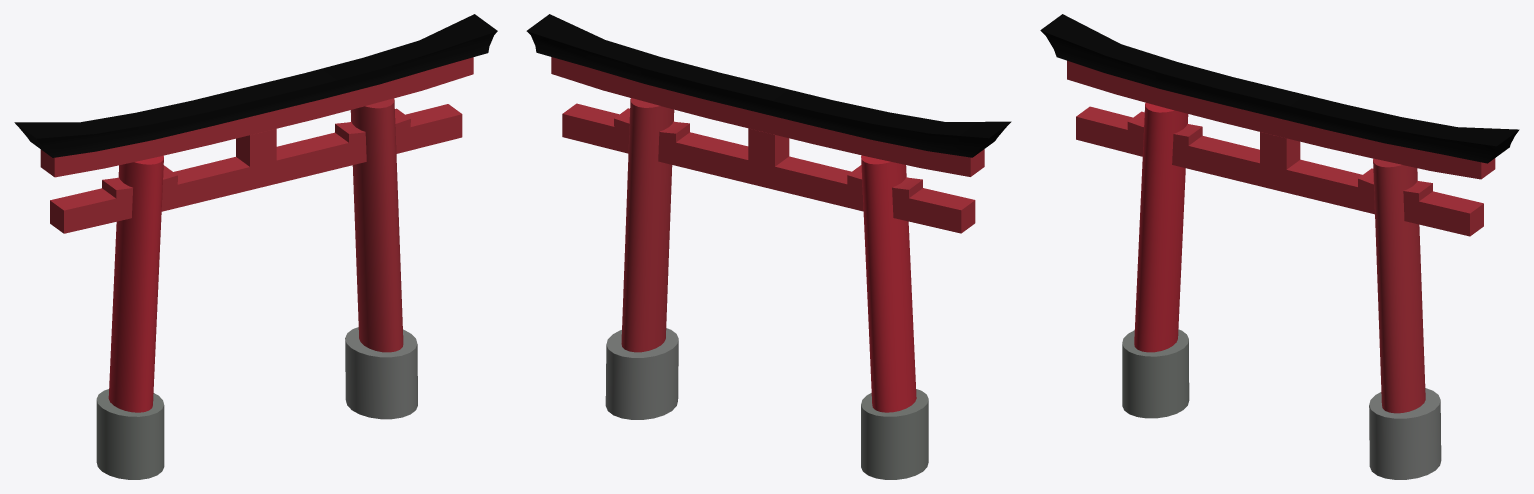
File: ToriiGate.fbx
3 views of the same model, side by side, from view 1: azimuth 30°, elevation 25°; view 2: azimuth 150°, elevation 25°; view 3: azimuth 330°, elevation 25° (orthographic).
Parts seen in each view (by area): view 1: TopRoof, MidSection, PillarL, PillarR, TopBase, basePillarR, basePillarL, SideBarL, SideBarR, SignBoard; view 2: TopRoof, MidSection, PillarL, PillarR, TopBase, basePillarR, basePillarL, SignBoard, SideBarR, SideBarL; view 3: TopRoof, MidSection, PillarR, PillarL, TopBase, basePillarR, basePillarL, SideBarR, SignBoard, SideBarL.
Boxes of the visible parts, bbox=[...] form: TopRoof: bbox=[14, 14, 497, 157]; MidSection: bbox=[50, 104, 462, 233]; PillarL: bbox=[108, 155, 163, 412]; PillarR: bbox=[350, 98, 403, 352]; TopBase: bbox=[40, 57, 473, 177]; basePillarR: bbox=[345, 327, 417, 419]; basePillarL: bbox=[96, 389, 164, 479]; SideBarL: bbox=[102, 165, 177, 221]; SideBarR: bbox=[335, 108, 410, 165]; SignBoard: bbox=[236, 129, 276, 166]; TopRoof: bbox=[526, 14, 1011, 157]; MidSection: bbox=[562, 103, 975, 233]; PillarL: bbox=[861, 155, 916, 412]; PillarR: bbox=[621, 98, 674, 352]; TopBase: bbox=[551, 57, 984, 176]; basePillarR: bbox=[605, 328, 678, 419]; basePillarL: bbox=[861, 389, 928, 479]; SignBoard: bbox=[748, 128, 789, 166]; SideBarR: bbox=[614, 108, 689, 164]; SideBarL: bbox=[847, 165, 922, 220]; TopRoof: bbox=[1040, 14, 1519, 163]; MidSection: bbox=[1076, 106, 1483, 236]; PillarR: bbox=[1373, 158, 1425, 413]; PillarL: bbox=[1134, 102, 1188, 352]; TopBase: bbox=[1067, 60, 1495, 179]; basePillarR: bbox=[1369, 388, 1441, 479]; basePillarL: bbox=[1122, 329, 1189, 418]; SideBarR: bbox=[1358, 168, 1432, 224]; SignBoard: bbox=[1260, 132, 1300, 169]; SideBarL: bbox=[1127, 111, 1202, 167].
Bounding box in the file's own units: 18.91 × 14.11 × 2.88.
